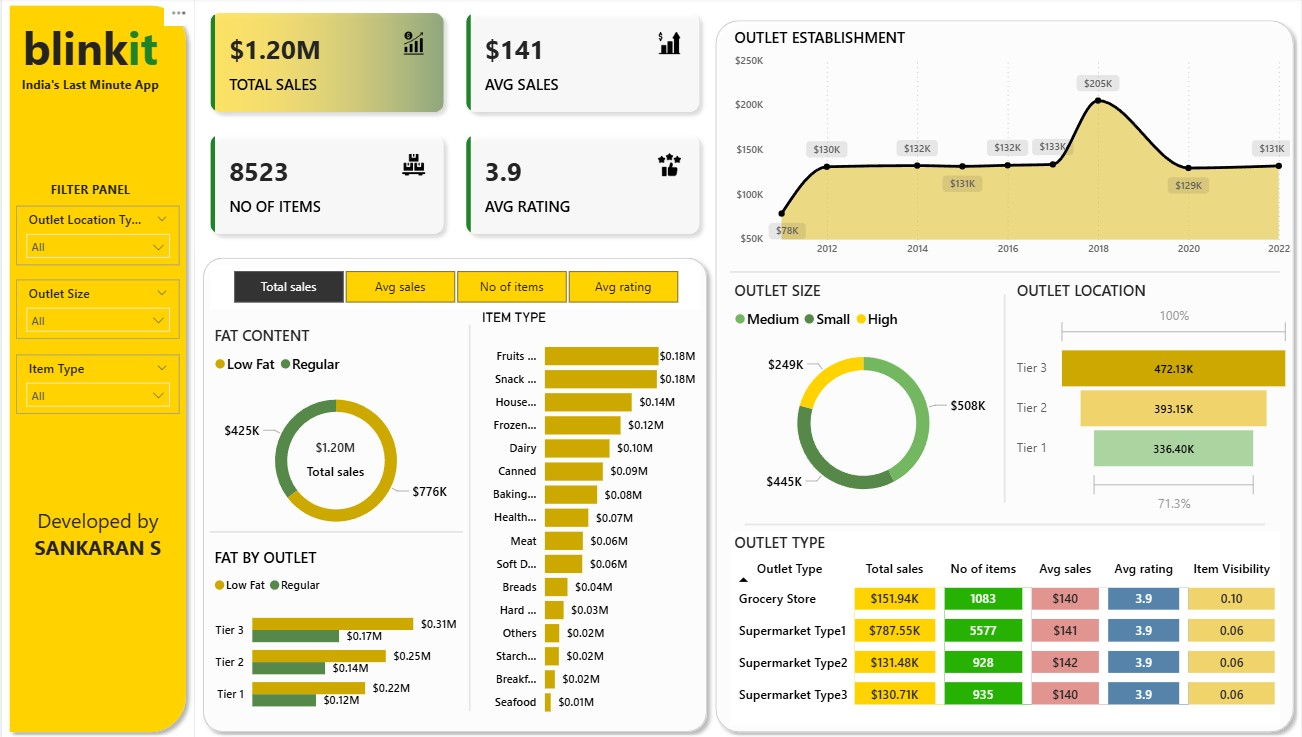

This screenshot's page, from the dashboard's own definition file:
{"tool":"powerbi","page":{"name":"Page 1","canvas":[1400,800],"ordinal":0},"visuals":[{"type":"shape","box":[0,0,208,800],"z":0},{"type":"textbox","box":[0,16,192,80],"z":1000},{"type":"textbox","box":[16,80,160,48],"z":2000},{"type":"cardVisual","fields":{"Data":["BlinkIT Grocery Data.Total sales","BlinkIT Grocery Data.Avg sales","BlinkIT Grocery Data.No of items","BlinkIT Grocery Data.Avg rating"]},"box":[208,0,560,272],"z":3000},{"type":"shape","box":[208,272,560,528],"z":4000},{"type":"donutChart","title":"FAT CONTENT","fields":{"Y":["BlinkIT Grocery Data.Total sales"],"Category":["BlinkIT Grocery Data.Item Fat Content"]},"box":[224,352,272,240],"z":5000},{"type":"slicer","fields":{"Values":["Metrics.Metrics"]},"box":[224,288,528,48],"z":6000},{"type":"card","fields":{"Values":["BlinkIT Grocery Data.Total sales"]},"box":[320,464,80,64],"z":7000},{"type":"clusteredBarChart","title":"FAT BY OUTLET","fields":{"Y":["BlinkIT Grocery Data.Total sales"],"Category":["BlinkIT Grocery Data.Outlet Location Type"],"Series":["BlinkIT Grocery Data.Item Fat Content"]},"box":[224,592,272,192],"z":8000},{"type":"shape","box":[224,560,272,32],"z":9000},{"type":"shape","box":[496,352,16,416],"z":10000},{"type":"barChart","title":"ITEM TYPE","fields":{"Y":["BlinkIT Grocery Data.Total sales"],"Category":["BlinkIT Grocery Data.Item Type"]},"box":[512,336,240,448],"z":11000},{"type":"shape","box":[760,16,640,784],"z":12000},{"type":"lineChart","title":"OUTLET ESTABLISHMENT","fields":{"Category":["BlinkIT Grocery Data.Outlet Establishment Year"],"Y":["BlinkIT Grocery Data.Total sales"]},"box":[784,32,608,256],"z":13000},{"type":"shape","box":[784,288,592,16],"z":13001},{"type":"donutChart","title":"OUTLET SIZE","fields":{"Y":["BlinkIT Grocery Data.Total sales"],"Category":["BlinkIT Grocery Data.Outlet Size"]},"box":[784,304,288,256],"z":13002},{"type":"shape","box":[1072,320,16,224],"z":13003},{"type":"funnel","title":"OUTLET LOCATION","fields":{"Category":["BlinkIT Grocery Data.Outlet Location Type"],"Y":["Sum(BlinkIT Grocery Data.Sales)"]},"box":[1088,304,304,256],"z":13004},{"type":"shape","box":[800,560,560,16],"z":13005},{"type":"pivotTable","title":"OUTLET TYPE","fields":{"Rows":["BlinkIT Grocery Data.Outlet Type"],"Values":["BlinkIT Grocery Data.Total sales","BlinkIT Grocery Data.No of items","BlinkIT Grocery Data.Avg sales","BlinkIT Grocery Data.Avg rating","Avg(BlinkIT Grocery Data.Item Visibility)"]},"box":[784,576,592,208],"z":13006},{"type":"slicer","fields":{"Values":["BlinkIT Grocery Data.Outlet Location Type"]},"box":[16,224,176,64],"z":13007},{"type":"slicer","fields":{"Values":["BlinkIT Grocery Data.Outlet Size"]},"box":[16,304,176,64],"z":13008},{"type":"slicer","fields":{"Values":["BlinkIT Grocery Data.Item Type"]},"box":[16,384,176,64],"z":13009},{"type":"textbox","box":[48,192,96,32],"z":13010},{"type":"textbox","box":[16,544,176,80],"z":13011}]}

Visuals, with their boxes in screenshot pixels (x1, y1, x2, y2), scaled from the page's 1400x800 canvas onto the 1302x737 screenshot:
shape: 0/0/193/736
textbox: 0/15/179/88
textbox: 15/74/164/118
cardVisual - BlinkIT Grocery Data.Total sales x BlinkIT Grocery Data.Avg sales: 193/0/714/251
shape: 193/251/714/736
"FAT CONTENT" donutChart: 208/324/461/545
slicer - Metrics.Metrics: 208/265/699/310
card - BlinkIT Grocery Data.Total sales: 298/427/372/486
"FAT BY OUTLET" clusteredBarChart: 208/545/461/722
shape: 208/516/461/545
shape: 461/324/476/708
"ITEM TYPE" barChart: 476/310/699/722
shape: 707/15/1301/736
"OUTLET ESTABLISHMENT" lineChart: 729/29/1295/265
shape: 729/265/1280/280
"OUTLET SIZE" donutChart: 729/280/997/516
shape: 997/295/1012/501
"OUTLET LOCATION" funnel: 1012/280/1295/516
shape: 744/516/1265/531
"OUTLET TYPE" pivotTable: 729/531/1280/722
slicer - BlinkIT Grocery Data.Outlet Location Type: 15/206/179/265
slicer - BlinkIT Grocery Data.Outlet Size: 15/280/179/339
slicer - BlinkIT Grocery Data.Item Type: 15/354/179/413
textbox: 45/177/134/206
textbox: 15/501/179/575
